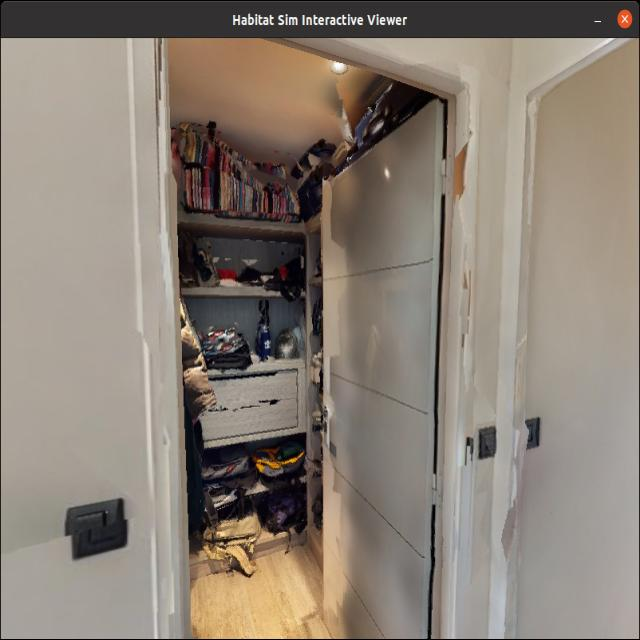door: (314, 113, 446, 640)
door-frame: (123, 42, 473, 640)
